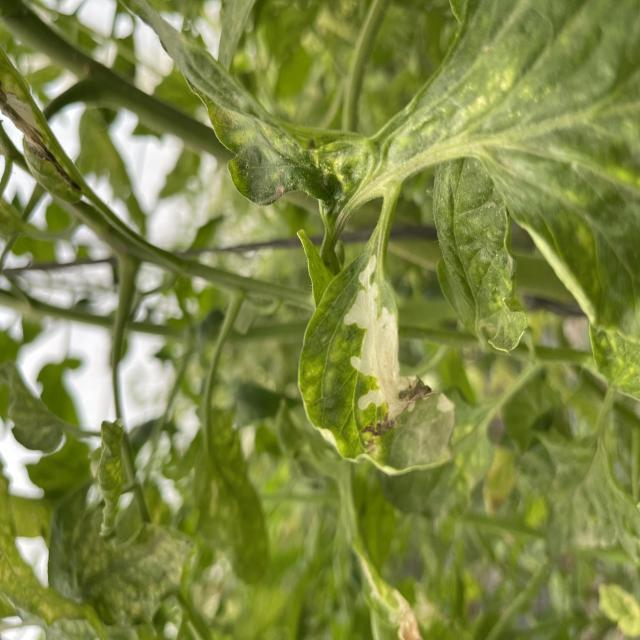Tuta absoluta: (330, 253, 425, 428)
